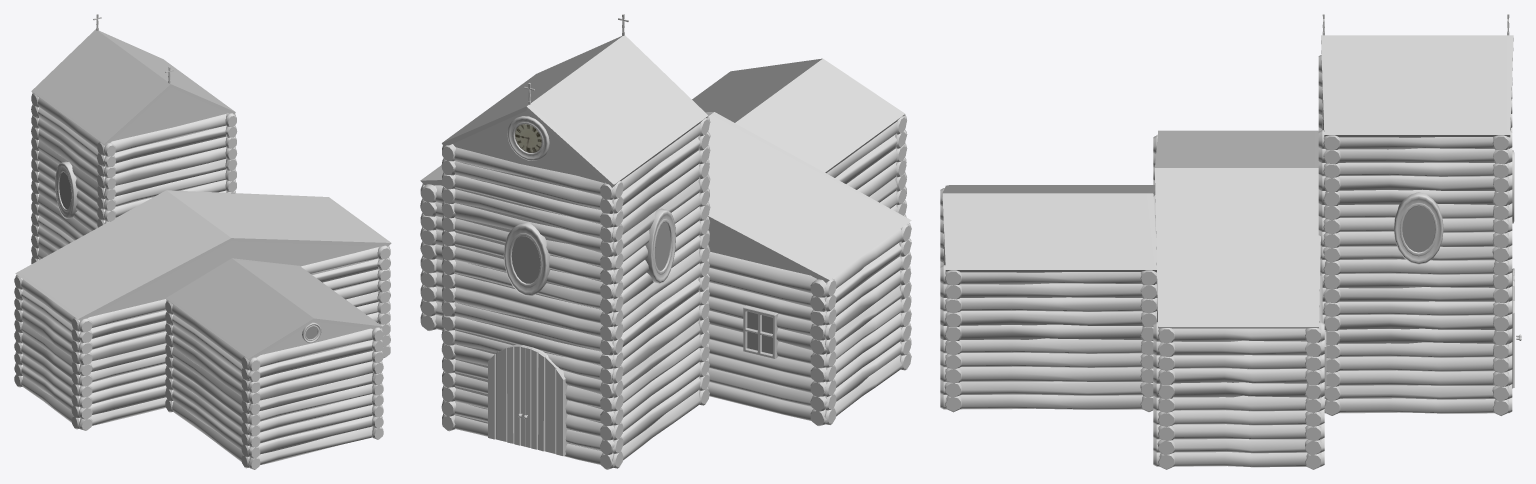
File: church.fbx
3 renders of one model, left to right at view 1: azimuth 30°, elevation 25°; view 2: azimuth 150°, elevation 25°; view 3: azimuth 270°, elevation 25°, orthographic. The views are drawn at different scales.
Visible parts, largest first — view 1: church; view 2: church; view 3: church.
Boxes of the visible parts, x1,y1,x2,y2 form: church: (14, 14, 391, 469); church: (420, 14, 911, 469); church: (940, 14, 1521, 469).
Size of the model in its own units: 21.57 by 18.48 by 26.99.
